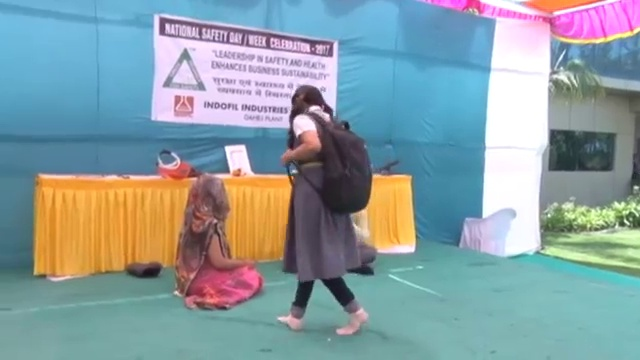helmet_off: (187, 176, 230, 220), (290, 84, 327, 112)
person: (273, 83, 374, 339), (173, 175, 264, 311)
